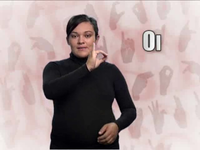oi: (86, 43, 108, 71)
